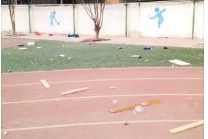garbage: (108, 97, 164, 117), (165, 117, 208, 135), (58, 86, 93, 96), (166, 56, 190, 68), (37, 78, 51, 89), (128, 52, 145, 61), (25, 40, 39, 48), (17, 42, 28, 50), (114, 44, 125, 51), (143, 45, 155, 51), (86, 41, 99, 46), (159, 46, 171, 51)
